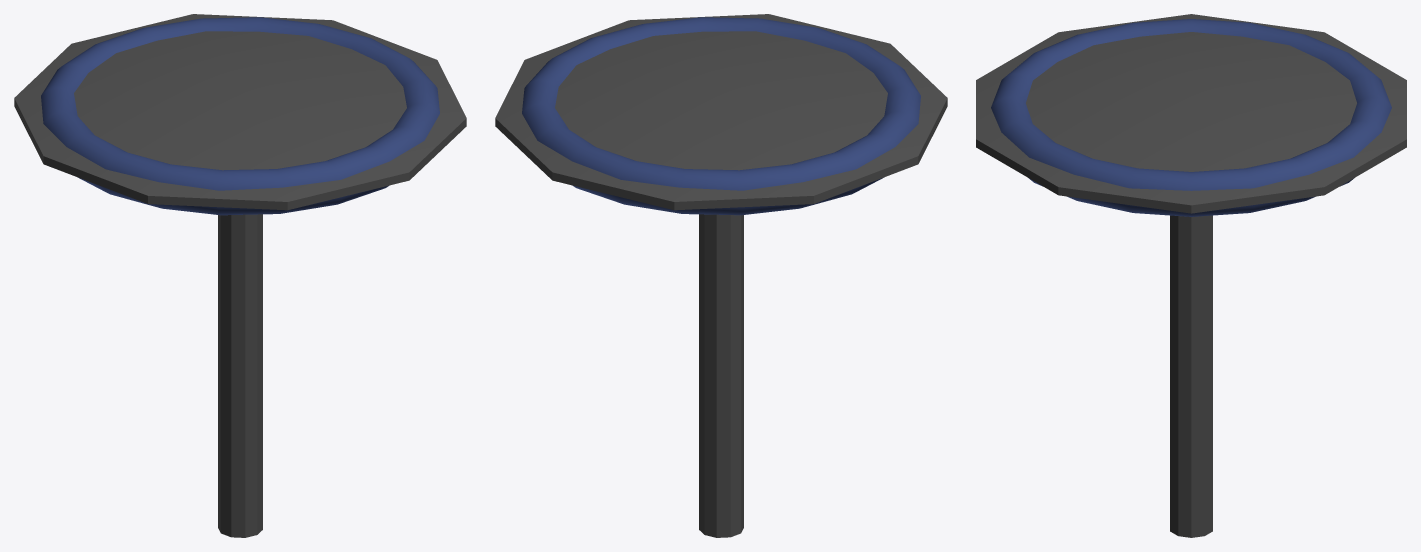
Rendered from LiftLoop.fbx.
3 renders of one model, left to right at view 1: azimuth 30°, elevation 25°; view 2: azimuth 150°, elevation 25°; view 3: azimuth 270°, elevation 25°, orthographic.
Visible parts, largest first — view 1: pCylinder3; view 2: pCylinder3; view 3: pCylinder3.
Part boxes in pixels (<box>): pCylinder3: <box>14,14,466,537</box>; pCylinder3: <box>495,14,947,537</box>; pCylinder3: <box>976,14,1406,537</box>.
Bounding box in the file's own units: 100 × 109 × 95.11.
